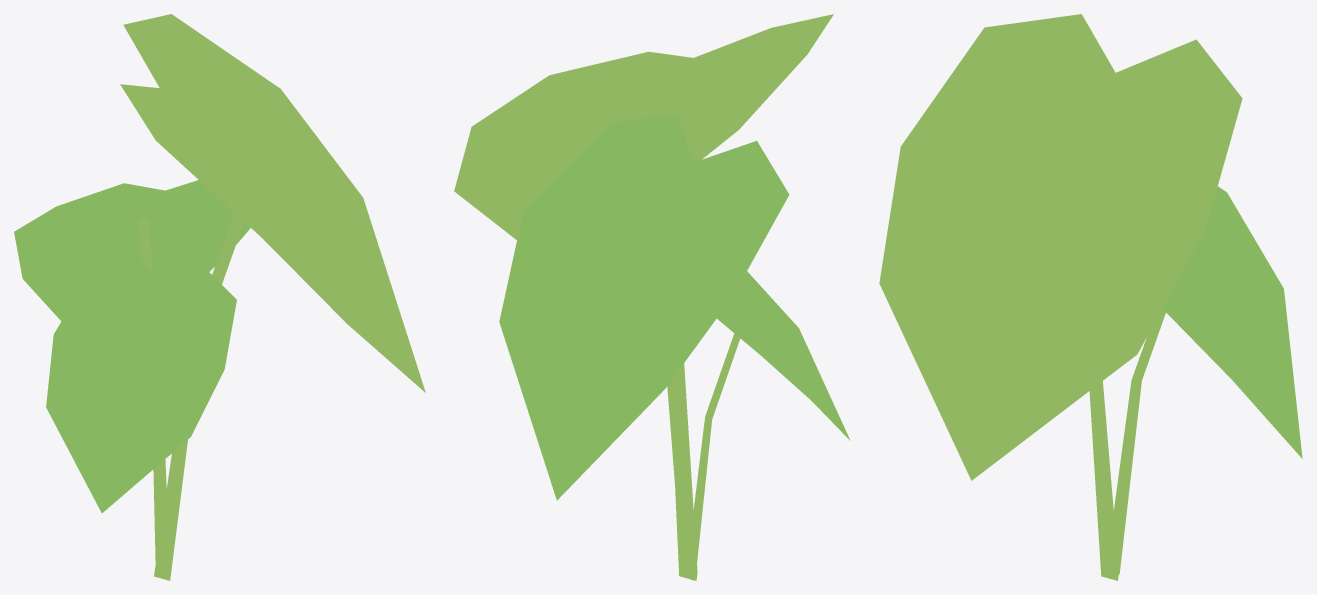
Rendered from Plant_d_OneS_05.fbx.
The picture shows the model from 3 angles, left to right: view 1: azimuth 30°, elevation 25°; view 2: azimuth 150°, elevation 25°; view 3: azimuth 270°, elevation 25°; orthographic projection. The views are drawn at different scales.
Parts seen in each view (by area): view 1: Plant_d_OneS_05; view 2: Plant_d_OneS_05; view 3: Plant_d_OneS_05.
Boxes of the visible parts, x1,y1,x2,y2 form: Plant_d_OneS_05: (14,14,425,580); Plant_d_OneS_05: (454,14,850,580); Plant_d_OneS_05: (879,14,1302,580).
Size of the model in its own units: 0.4525 by 0.6925 by 0.495.
